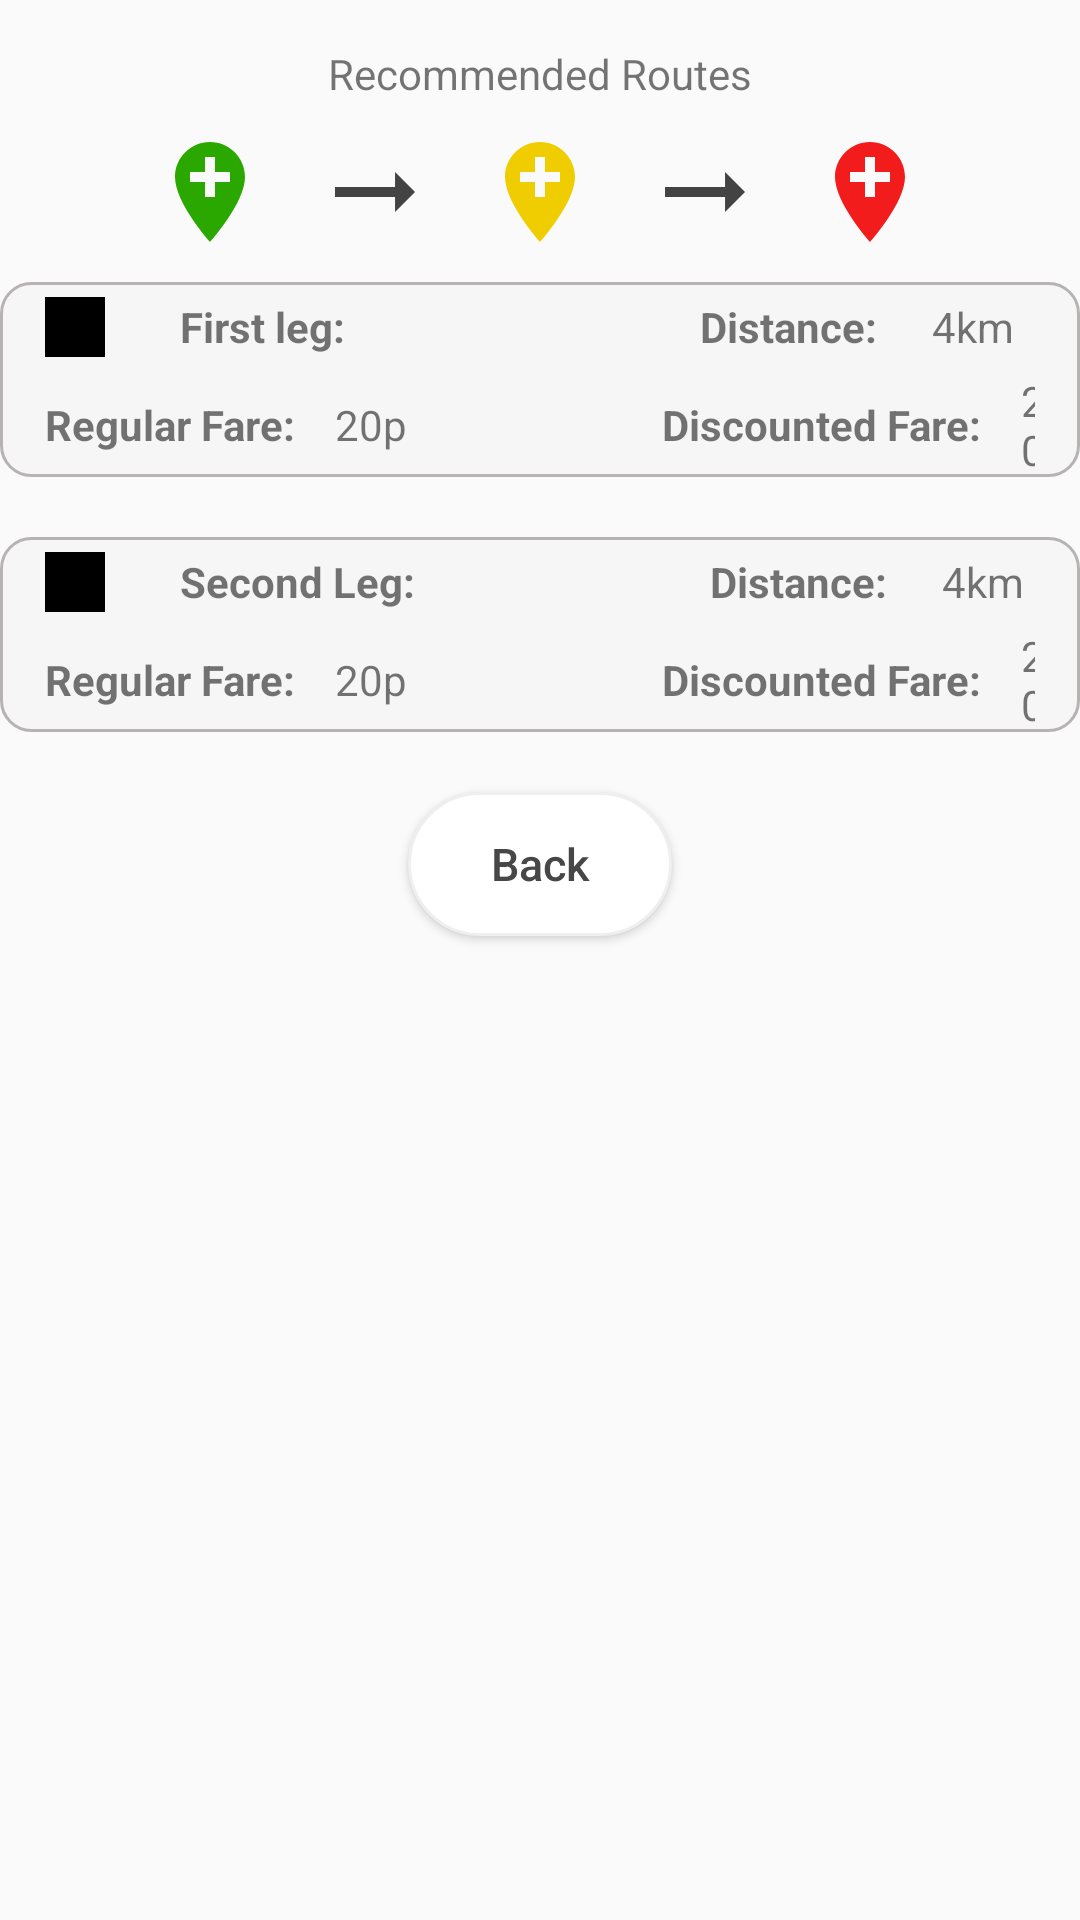

Named icons in this screenshot (1080 x 1920) and their centers, (x=x, y=y):
add location: (x=210, y=192), (x=540, y=192)
arrow right: (x=375, y=192), (x=705, y=192)
